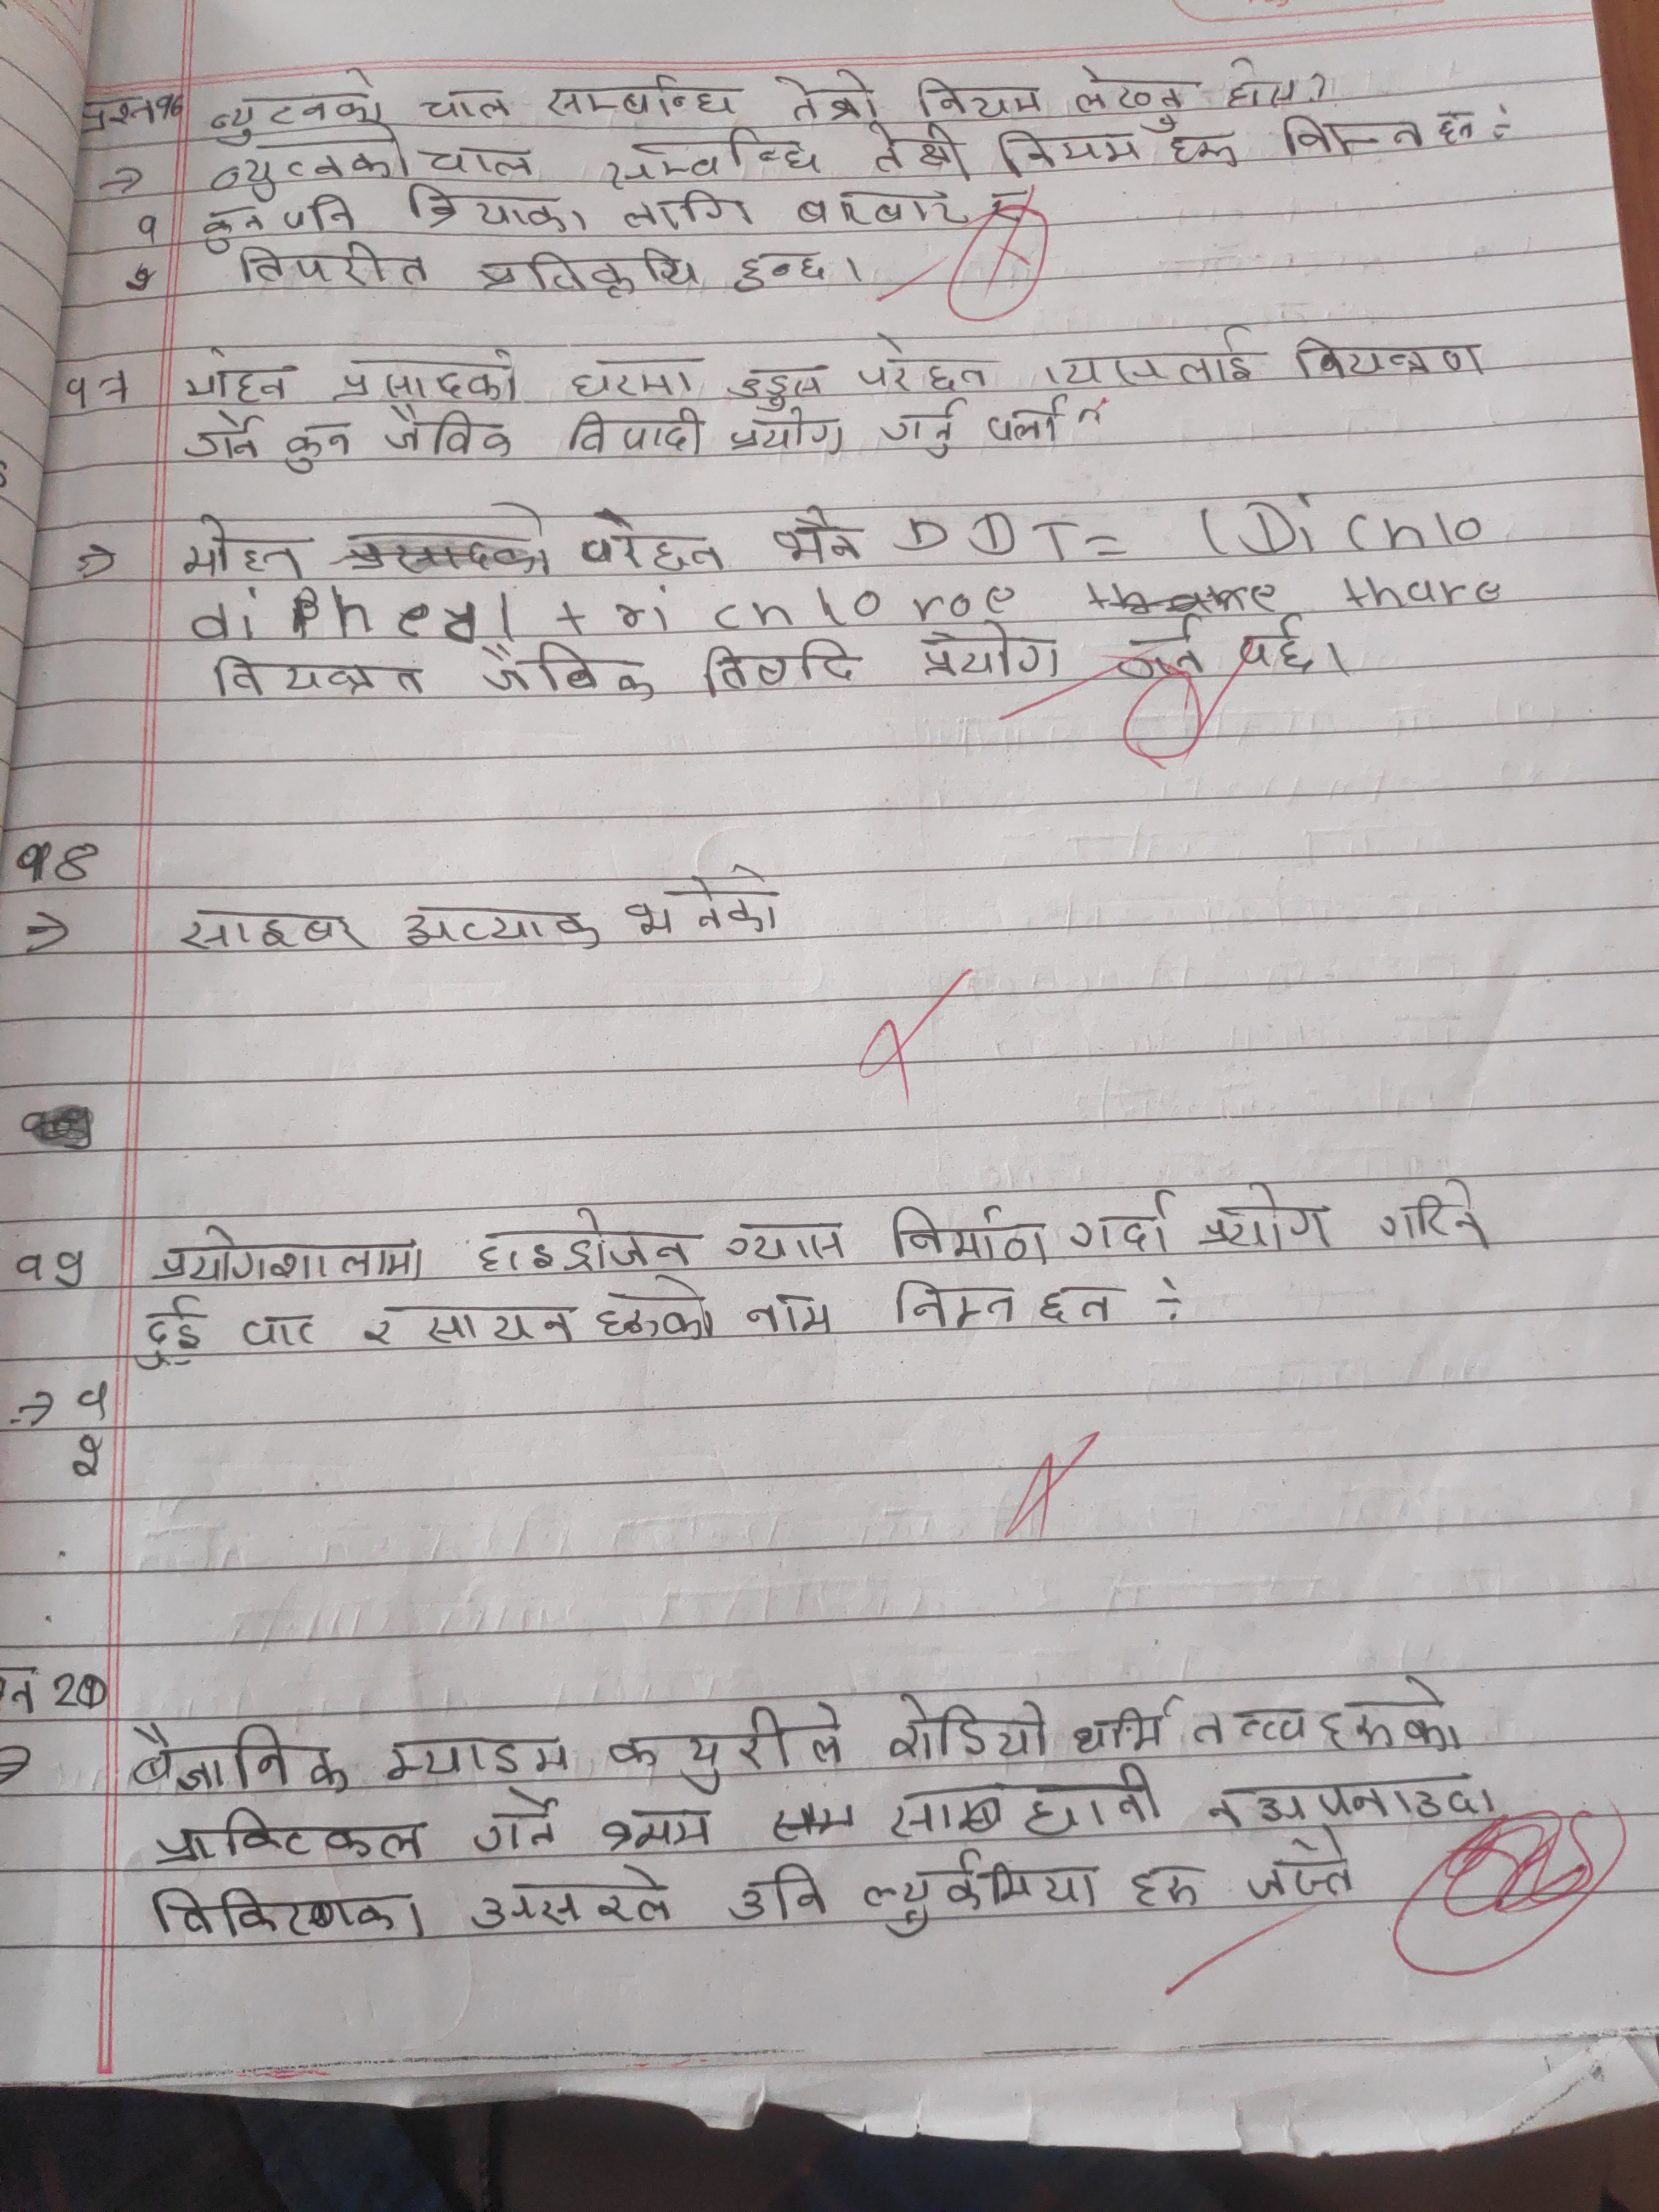text: (601, 1698, 849, 1794), (854, 1850, 1098, 1937), (887, 1768, 1168, 1841), (1192, 1676, 1457, 1752), (145, 1881, 429, 1946), (125, 1717, 354, 1796), (152, 1808, 434, 1869), (1199, 1775, 1502, 1831), (469, 1204, 697, 1277), (150, 1223, 420, 1282), (467, 1865, 678, 1937), (204, 122, 418, 192), (594, 122, 824, 186), (626, 862, 781, 949), (995, 122, 1243, 176), (1051, 324, 1258, 387), (885, 1686, 1051, 1764), (206, 70, 387, 141), (476, 244, 701, 298), (885, 1198, 1049, 1270), (361, 1299, 577, 1353), (544, 68, 739, 127), (401, 178, 589, 239), (331, 347, 521, 406), (697, 634, 864, 700), (406, 902, 605, 956), (202, 655, 427, 702), (570, 512, 725, 578), (174, 904, 364, 958), (479, 641, 652, 700), (1197, 1179, 1340, 1251), (915, 620, 1070, 683), (232, 242, 430, 291), (1290, 331, 1493, 378), (380, 1738, 584, 1785), (594, 1273, 714, 1348), (1243, 1832, 1361, 1907), (380, 402, 518, 467), (854, 331, 993, 394), (1065, 64, 1195, 131), (1373, 1174, 1490, 1247), (887, 1271, 1019, 1336), (769, 63, 892, 129), (793, 186, 972, 232), (469, 1784, 568, 1864), (181, 521, 308, 582), (183, 343, 295, 411), (568, 409, 713, 462), (1065, 1190, 1180, 1254), (598, 1799, 714, 1860), (864, 122, 971, 188), (718, 1211, 852, 1263), (1070, 1696, 1182, 1759), (1279, 108, 1427, 155), (725, 1862, 835, 1925), (617, 185, 756, 233), (568, 352, 708, 401), (1115, 622, 1215, 688), (770, 510, 877, 571), (913, 71, 1046, 118), (871, 401, 969, 462), (725, 413, 849, 456), (136, 1292, 207, 1367), (741, 1292, 842, 1345), (723, 251, 835, 298), (725, 362, 830, 411), (416, 141, 540, 181), (1234, 618, 1317, 676), (1223, 52, 1304, 110), (183, 411, 272, 462), (422, 82, 519, 124), (282, 420, 357, 474), (1033, 1284, 1122, 1329), (282, 192, 364, 240), (192, 204, 274, 251), (1126, 1857, 1197, 1909), (986, 399, 1066, 441), (242, 1313, 317, 1355), (1432, 110, 1483, 148)
